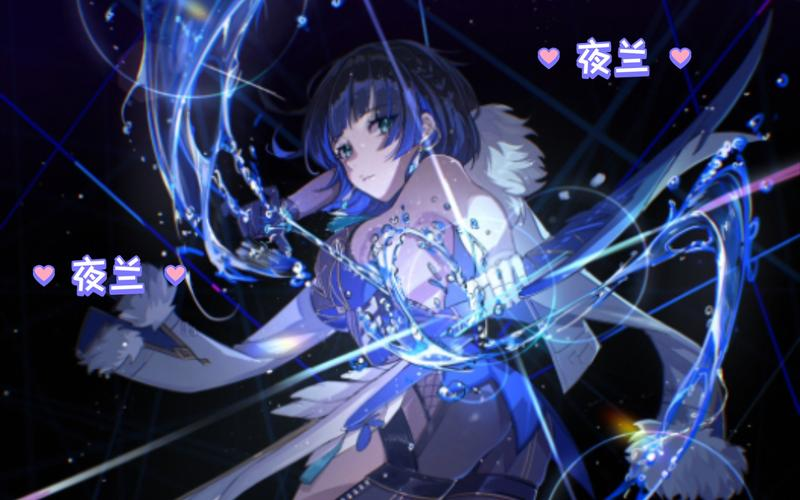夜兰: (254, 38, 553, 500)
